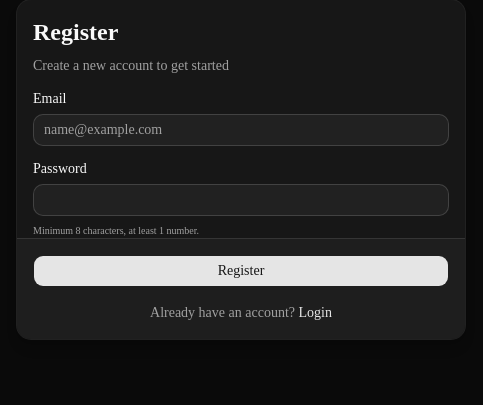
Scenario: RegisterForm › shows validation errors for invalid data
Type "short" into the password field labelled "Password". click: [241, 200]
box: [33, 184, 449, 216]
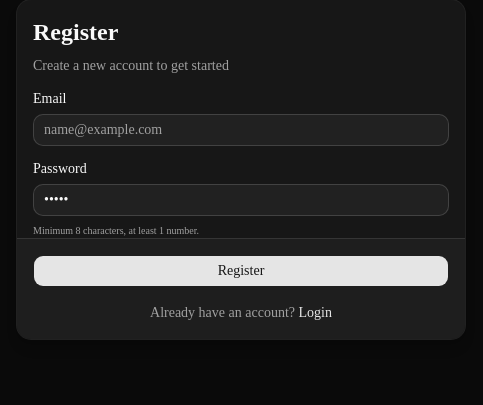
Click the button "Register". click: [241, 271]
box: [33, 255, 449, 287]
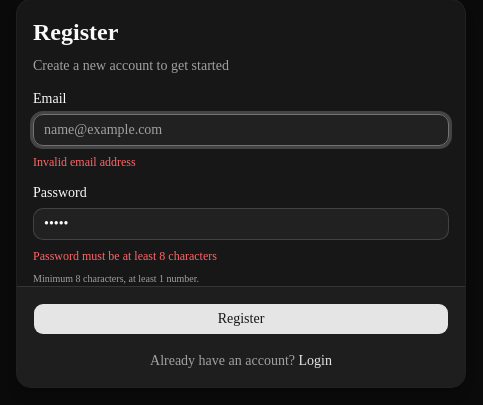
Now the text "Invalid email address" is shown, box [33, 155, 136, 169]
Now the text "Password must be at least 8 characters" is shown, box [33, 249, 217, 263]
